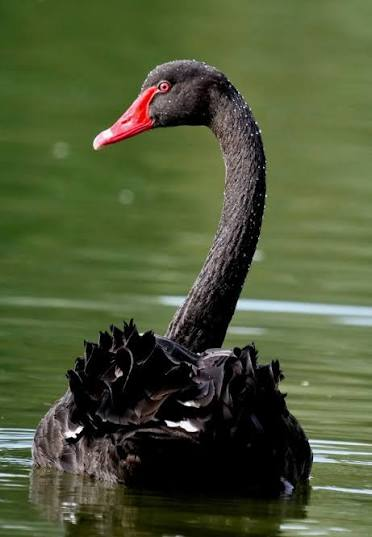black_swan: (32, 54, 313, 500)
